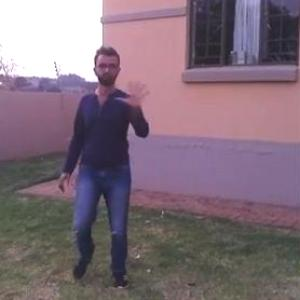follow_hand: (116, 74, 154, 109)
